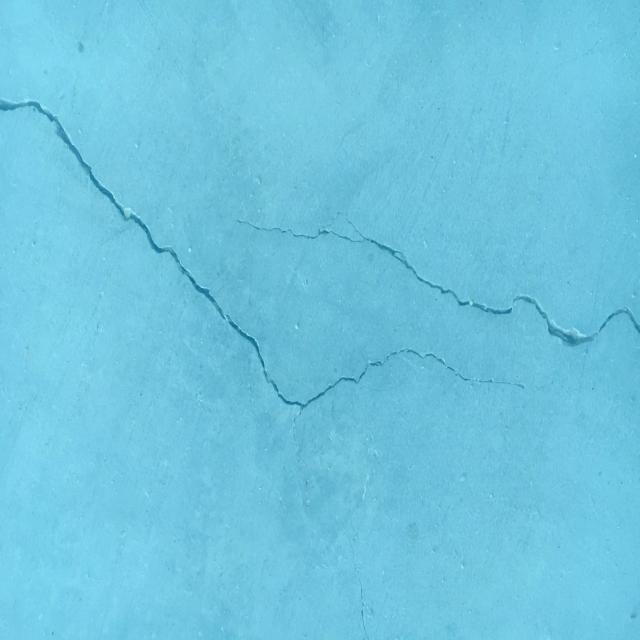crack: (0, 98, 526, 486), (237, 217, 640, 347), (354, 567, 370, 640), (326, 212, 342, 226)
